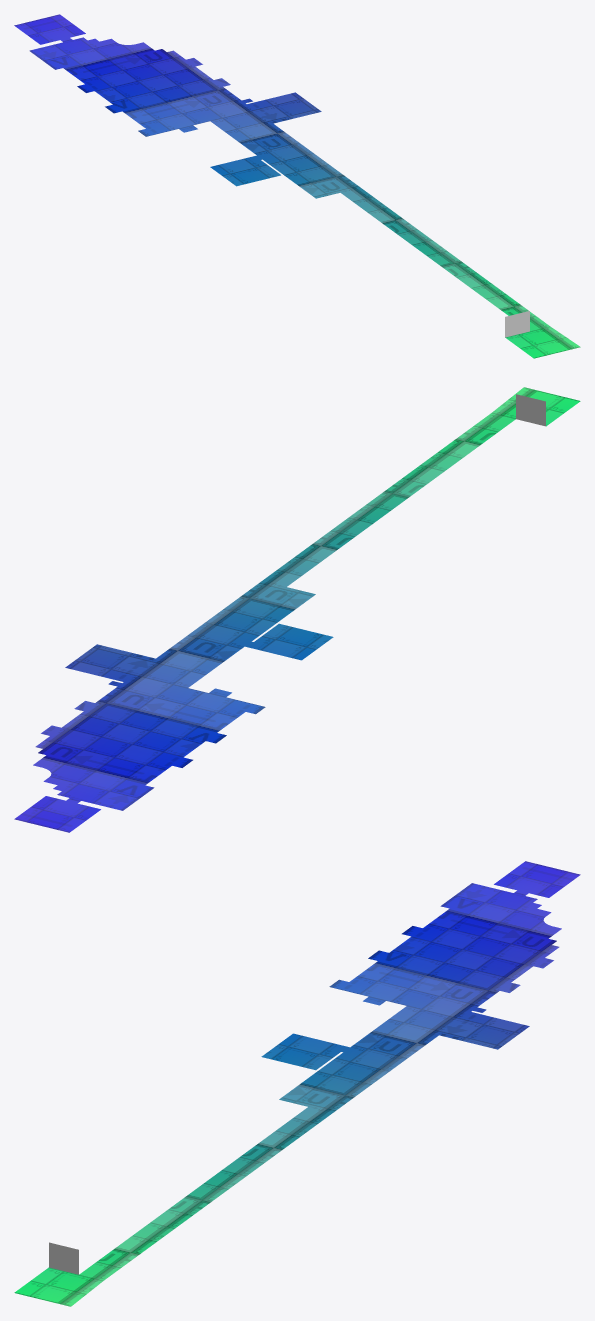
The model's file is Floor4Floor.fbx.
The picture shows the model from 3 angles, top to bottom: view 1: azimuth 30°, elevation 25°; view 2: azimuth 150°, elevation 25°; view 3: azimuth 330°, elevation 25°; orthographic projection. The views are drawn at different scales.
Visible parts, largest first — view 1: Floor4Floor; view 2: Floor4Floor; view 3: Floor4Floor.
Part boxes in pixels (box(x1,y1,x2,y2)): Floor4Floor: box(14, 14, 580, 358); Floor4Floor: box(14, 387, 580, 832); Floor4Floor: box(14, 861, 580, 1306).
Bounding box in the file's own units: 1128 × 141 × 5838.
